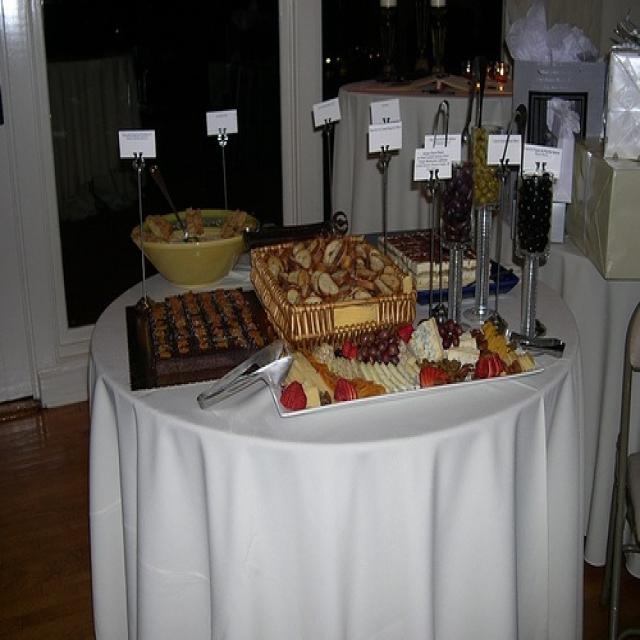diningtable: (87, 248, 585, 636), (332, 75, 514, 239)
